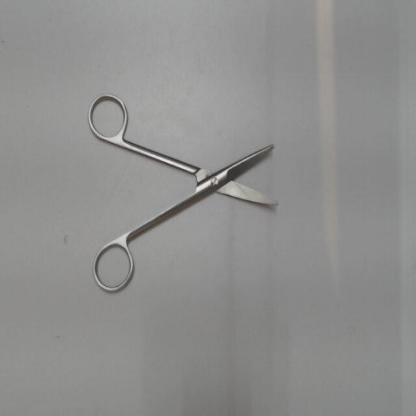Curved Mayo Scissors: (83, 84, 284, 303)
